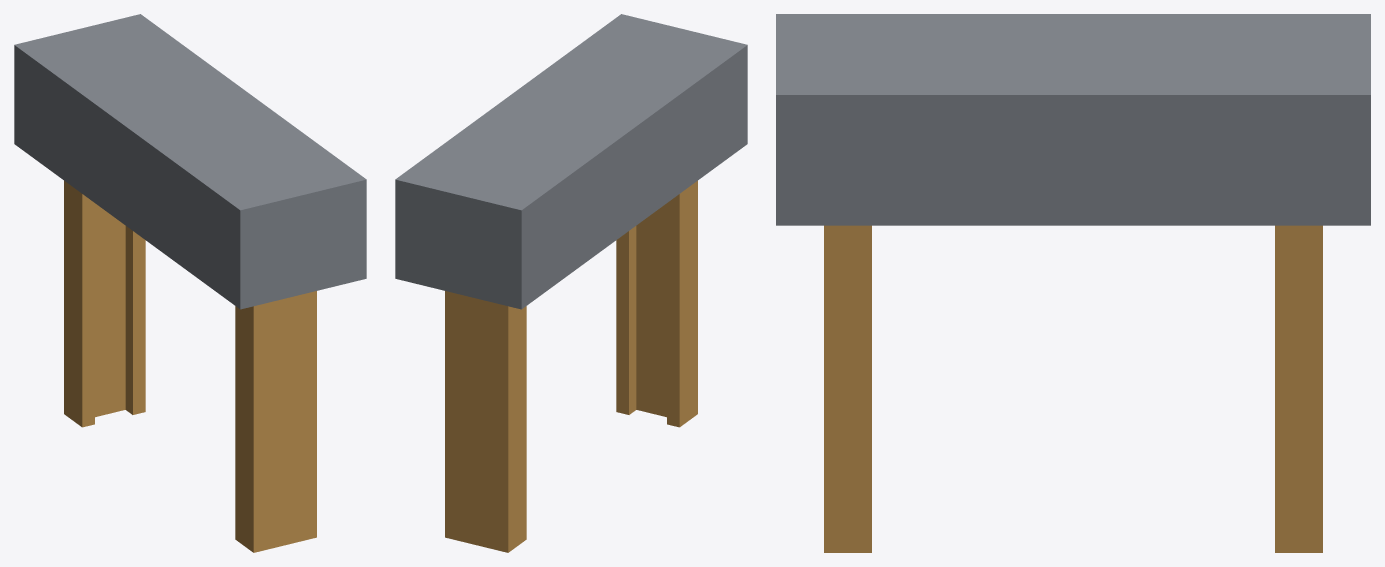
Rendered from gripper.glb.
3 renders of one model, left to right at view 1: azimuth 30°, elevation 25°; view 2: azimuth 150°, elevation 25°; view 3: azimuth 270°, elevation 25°, orthographic. The views are drawn at different scales.
Parts seen in each view (by area): view 1: palm, finger_right, finger_left; view 2: palm, finger_left, finger_right; view 3: palm, finger_left, finger_right.
Part boxes in pixels (x1,y1,x2,y2): palm: [14, 14, 366, 309]; finger_right: [235, 291, 316, 552]; finger_left: [64, 180, 145, 427]; palm: [395, 14, 747, 309]; finger_left: [445, 291, 526, 552]; finger_right: [616, 180, 697, 427]; palm: [776, 14, 1370, 225]; finger_left: [1275, 225, 1322, 552]; finger_right: [824, 225, 871, 552].
Bounding box in the file's own units: 0.04 × 0.11 × 0.124.
